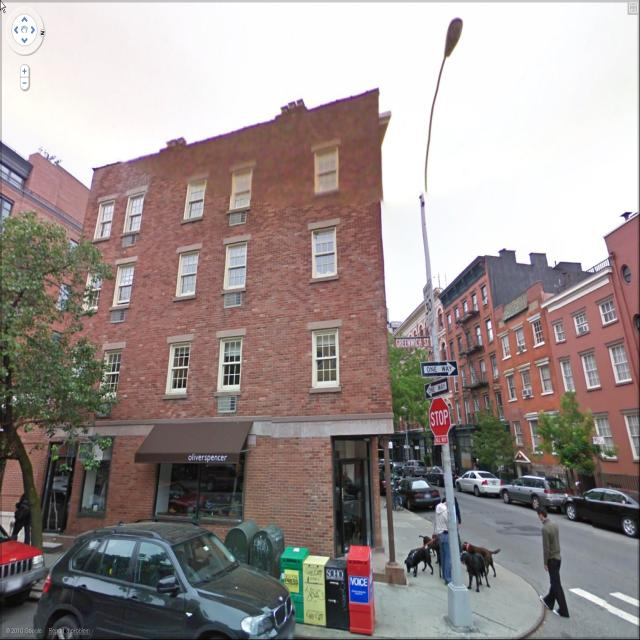b_1: (55, 81, 410, 578), (552, 249, 640, 457), (486, 278, 564, 474), (444, 263, 503, 447)
b_2: (0, 137, 96, 519)
